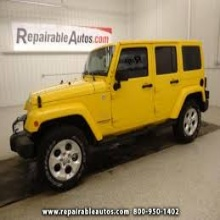no damage: (9, 40, 210, 192)
